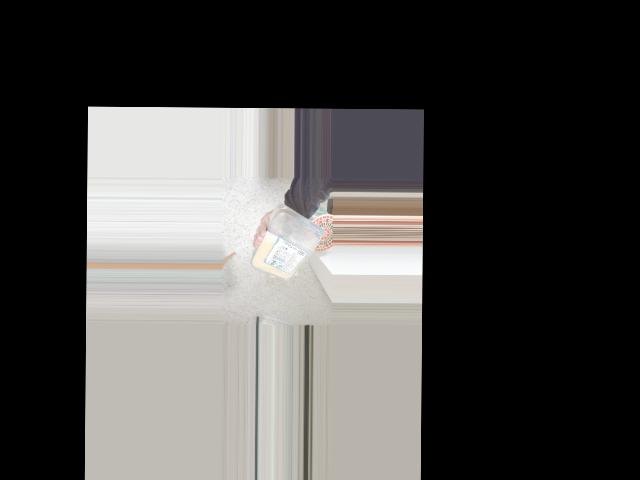cheese: (255, 221, 328, 282)
